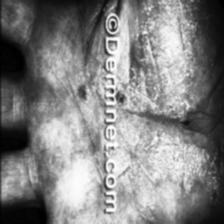Non-Cancerous Skin Condition: (140, 127, 224, 221), (152, 0, 196, 109), (60, 44, 100, 122), (116, 42, 140, 132)
